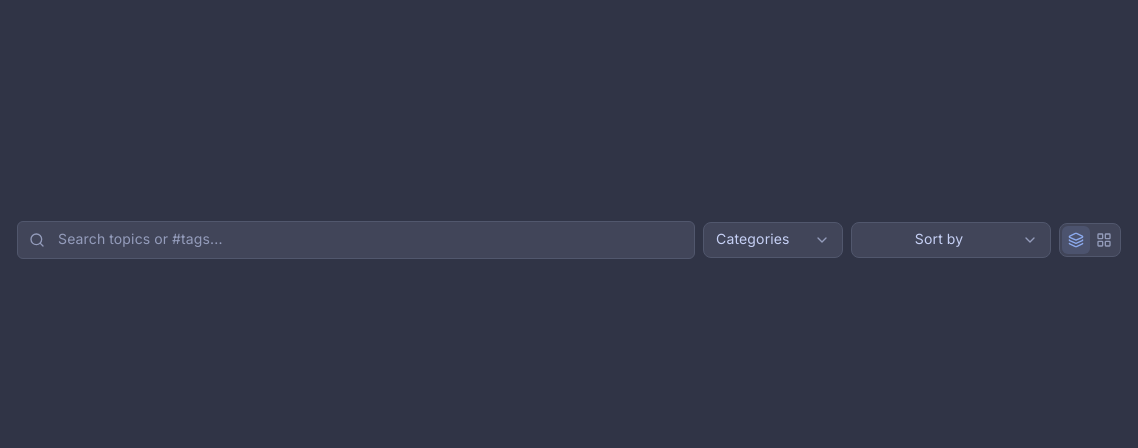
Test case: OverviewPage › search filters topics by label
Type "grpc" into the field with test id "overview-search" showing "Search topics or #tags...".
click(356, 240); type("grpc")  # box 17,221 -> 695,259
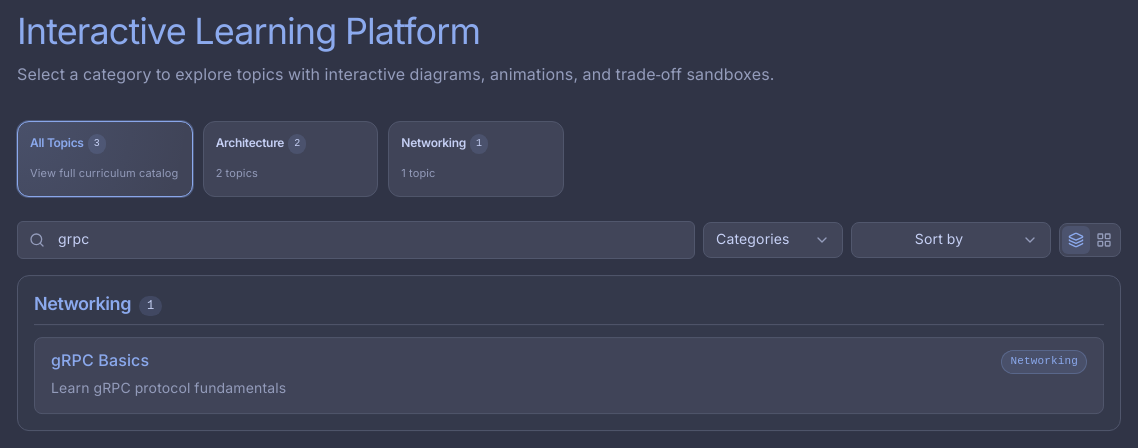
Expected: the text "gRPC Basics" is shown, 51,350 -> 149,374
